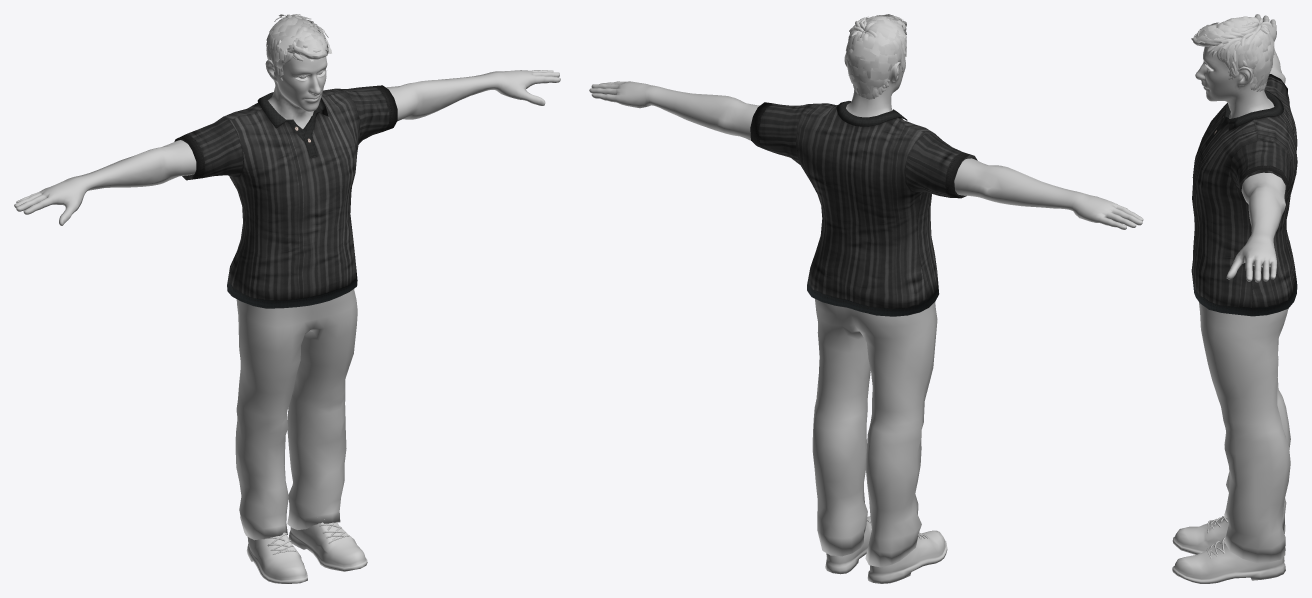
The model's file is A_Casual 4.obj.
3 views of the same model, side by side, from view 1: azimuth 30°, elevation 25°; view 2: azimuth 150°, elevation 25°; view 3: azimuth 270°, elevation 25° (orthographic).
Parts seen in each view (by area): view 1: Tops, Bottoms, Body, Shoes, Hair; view 2: Tops, Bottoms, Body, Hair, Shoes; view 3: Tops, Bottoms, Body, Shoes, Hair.
Part boxes in pixels (left/top/right/bottom): Tops: left=174, top=85, right=397, bottom=308; Bottoms: left=235, top=289, right=357, bottom=540; Body: left=14, top=54, right=560, bottom=225; Shoes: left=246, top=517, right=367, bottom=583; Hair: left=266, top=14, right=331, bottom=82; Tops: left=750, top=101, right=977, bottom=316; Bottoms: left=812, top=299, right=937, bottom=567; Body: left=589, top=48, right=1143, bottom=229; Hair: left=845, top=14, right=906, bottom=99; Shoes: left=825, top=516, right=947, bottom=583; Tops: left=1191, top=74, right=1297, bottom=316; Bottoms: left=1199, top=302, right=1290, bottom=562; Body: left=1195, top=14, right=1285, bottom=282; Shoes: left=1172, top=516, right=1285, bottom=583; Hair: left=1191, top=16, right=1274, bottom=91.
Size of the model in its own units: 194 by 184 by 38.33.
